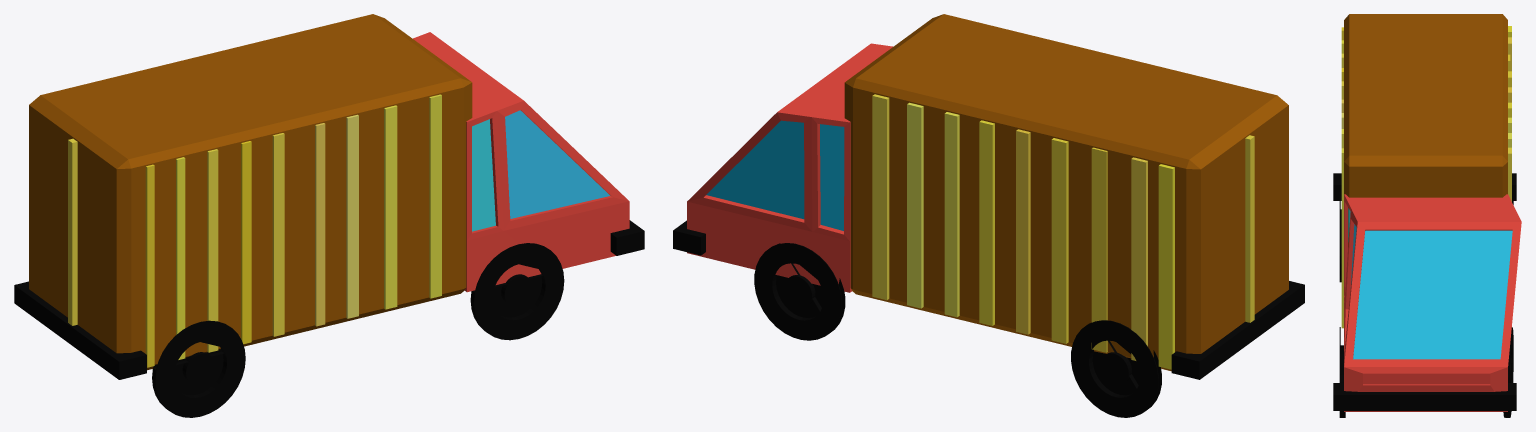
The model's file is truck_final.glb.
3 renders of one model, left to right at view 1: azimuth 30°, elevation 25°; view 2: azimuth 150°, elevation 25°; view 3: azimuth 270°, elevation 25°, orthographic. The views are drawn at different scales.
Parts seen in each view (by area): view 1: Cube.204, Cube.206, Cylinder.033, Cylinder.035, Cube.196, Cube.187, Cube.184, Cube.188, Cube.191, Cube.197, Cube.190, Cube.189 (+4 smaller); view 2: Cube.204, Cube.206, Cylinder.032, Cylinder.034, Cube.198, Cube.201, Cube.193, Cube.199, Cube.196, Cube.195, Cube.194, Cube.203 (+4 smaller); view 3: Cube.206, Cube.204, Cube.205, Cube.184, Cube.196, Cylinder.034, Cylinder.035, Cylinder.033, Cube.198.
Boxes of the visible parts, <box> form: Cube.204: <box>29,14,472,370</box>; Cube.206: <box>413,32,629,292</box>; Cylinder.033: <box>152,320,245,417</box>; Cylinder.035: <box>470,243,564,340</box>; Cube.196: <box>14,281,146,379</box>; Cube.187: <box>384,105,397,309</box>; Cube.184: <box>429,94,441,298</box>; Cube.188: <box>346,114,358,318</box>; Cube.191: <box>272,133,284,336</box>; Cube.197: <box>315,123,325,326</box>; Cube.190: <box>241,141,251,344</box>; Cube.189: <box>207,149,218,352</box>; Cube.204: <box>844,14,1288,371</box>; Cube.206: <box>687,43,892,292</box>; Cylinder.032: <box>1071,320,1161,417</box>; Cylinder.034: <box>754,243,845,340</box>; Cube.198: <box>872,94,889,300</box>; Cube.201: <box>1051,138,1068,343</box>; Cube.193: <box>907,102,923,308</box>; Cube.199: <box>1158,164,1174,369</box>; Cube.196: <box>1171,281,1304,379</box>; Cube.195: <box>979,120,994,325</box>; Cube.194: <box>944,112,959,317</box>; Cube.203: <box>1091,147,1107,352</box>; Cube.206: <box>1344,194,1521,411</box>; Cube.204: <box>1344,14,1507,246</box>; Cube.205: <box>1333,383,1516,410</box>; Cube.184: <box>1341,148,1343,328</box>; Cube.196: <box>1333,173,1516,200</box>; Cylinder.034: <box>1503,327,1513,417</box>; Cylinder.035: <box>1339,327,1345,417</box>; Cylinder.033: <box>1339,191,1341,282</box>; Cube.198: <box>1508,147,1511,201</box>.
Bounding box in the file's own units: 6.47 × 3.17 × 2.3.
